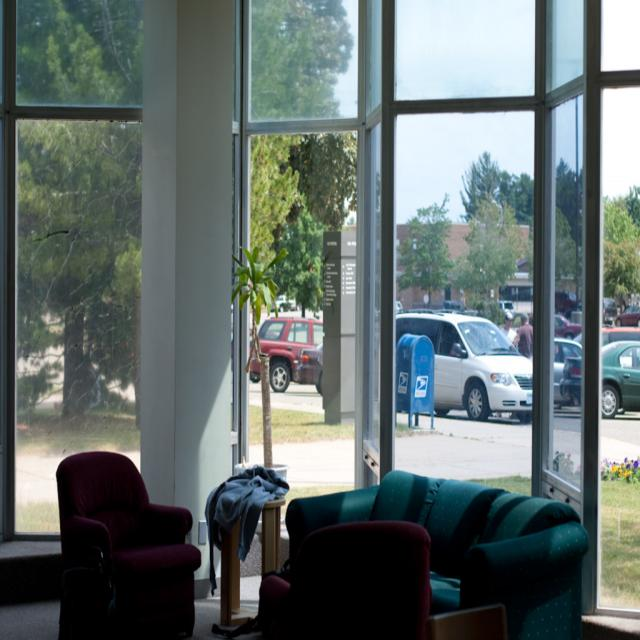other: (244, 300, 638, 420), (396, 308, 534, 426), (244, 313, 330, 395), (559, 341, 639, 419), (552, 335, 584, 406)
